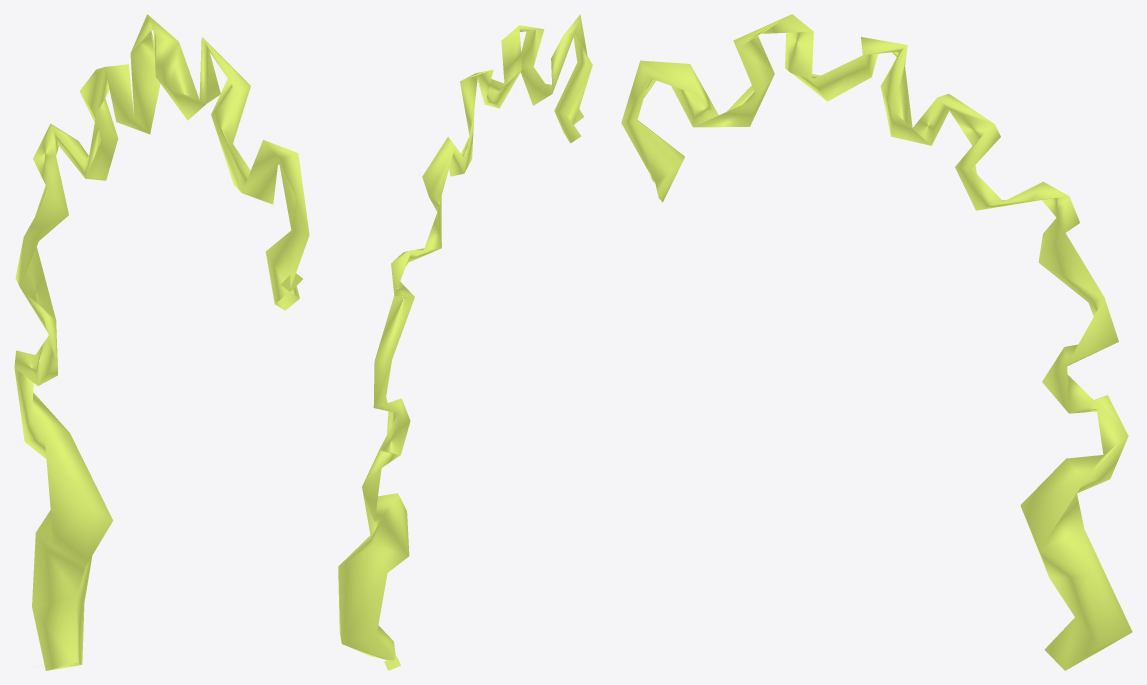
File: caballo-006.gltf
The picture shows the model from 3 angles, left to right: view 1: azimuth 30°, elevation 25°; view 2: azimuth 150°, elevation 25°; view 3: azimuth 270°, elevation 25°; orthographic projection. The views are drawn at different scales.
Visible parts, largest first — view 1: Caballo-f.006; view 2: Caballo-f.006; view 3: Caballo-f.006.
Boxes of the visible parts, box(x1,y1,x2,y2) form: Caballo-f.006: box(14, 14, 309, 670); Caballo-f.006: box(338, 14, 592, 670); Caballo-f.006: box(621, 14, 1132, 670).
Size of the model in its own units: 0.0538 by 0.4978 by 0.3594.
1 material, 1 textured.
